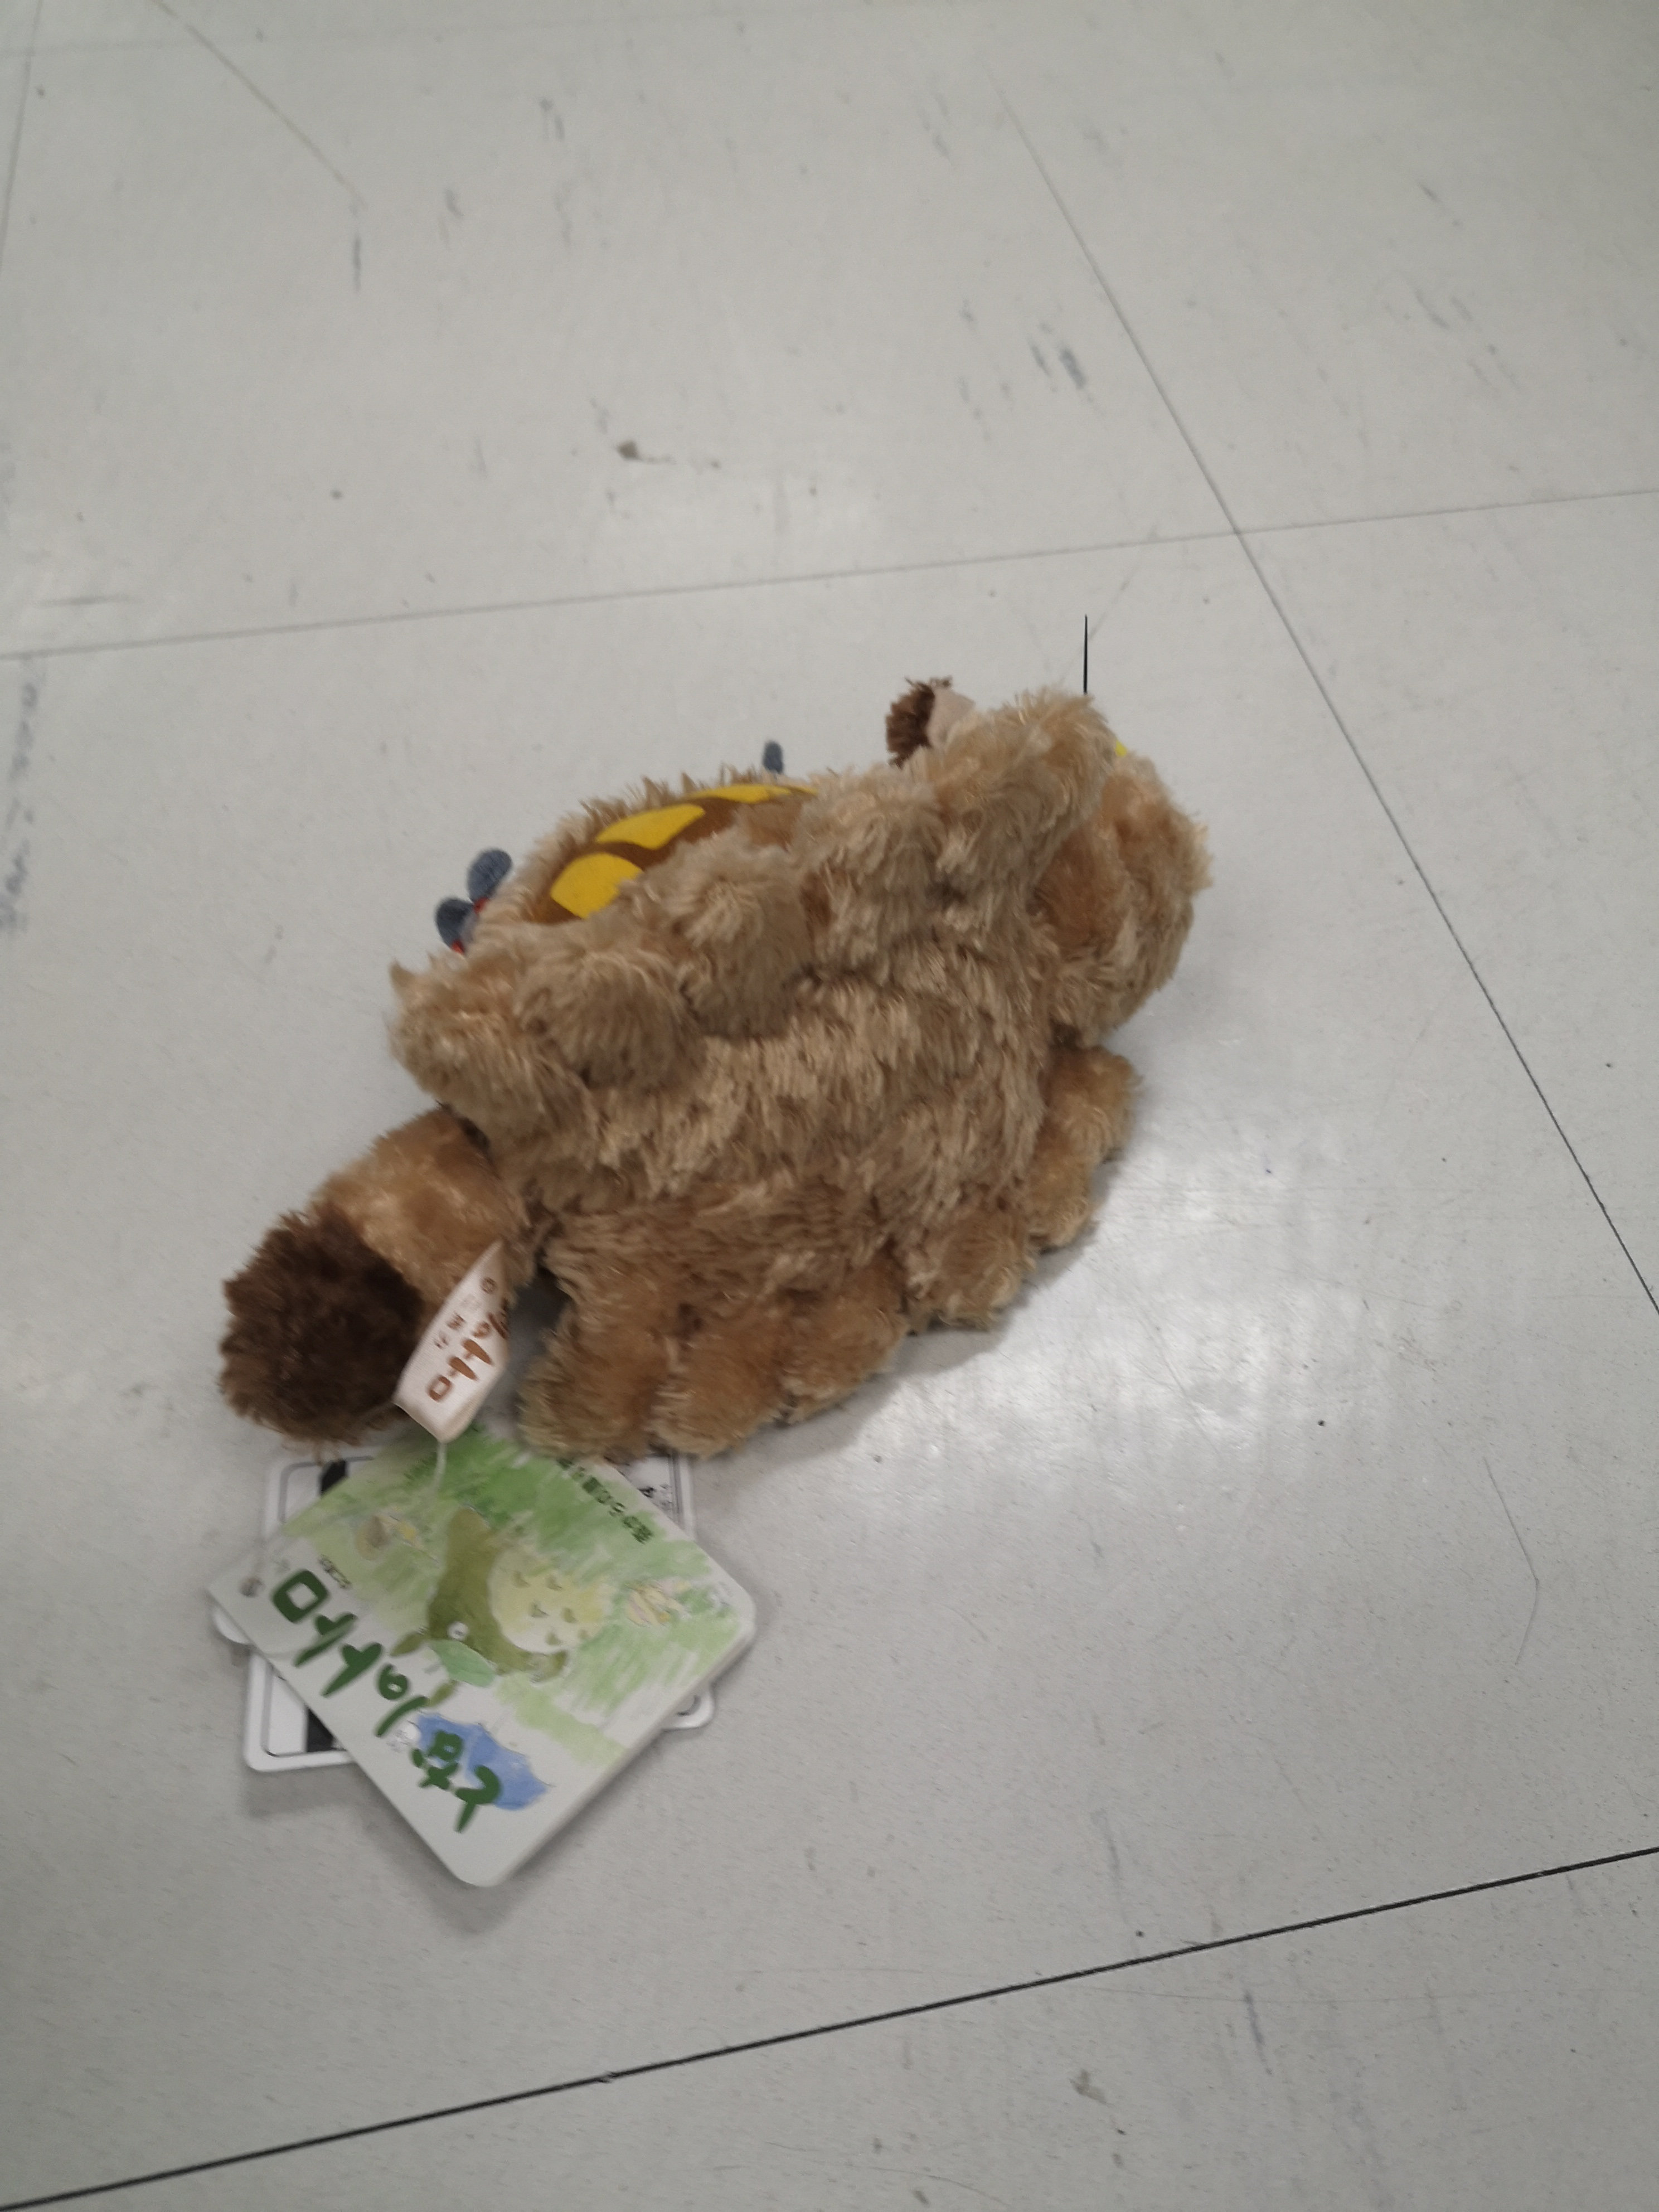nekobus: (197, 610, 1222, 1475)
